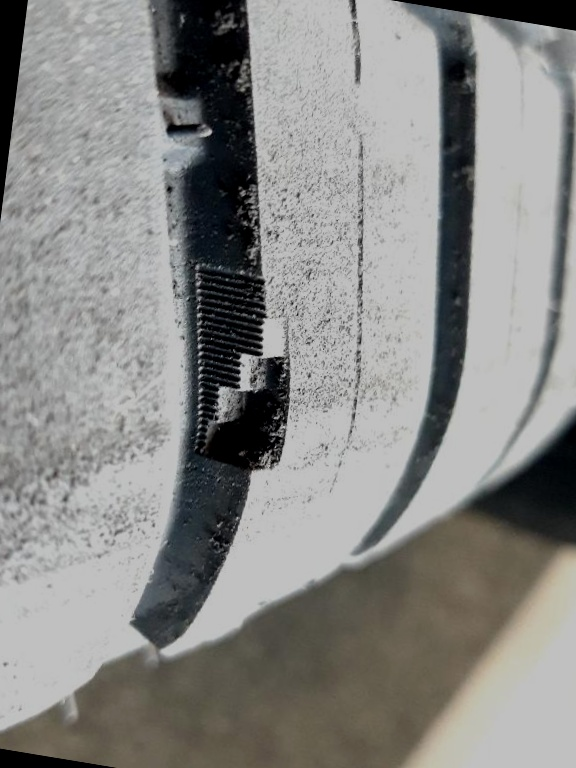temoin:75: (167, 297, 308, 486)
